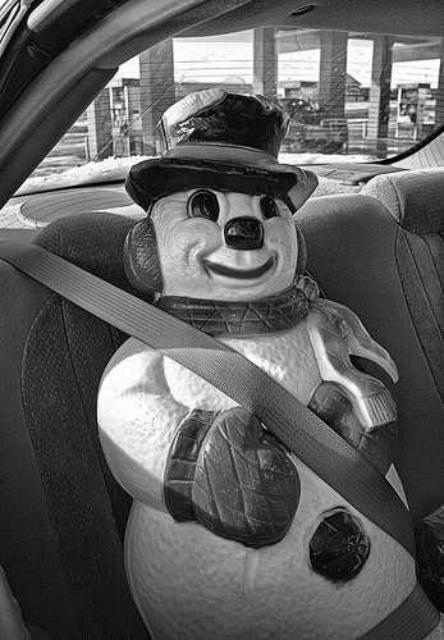Seatbelt: (0, 234, 444, 640)
